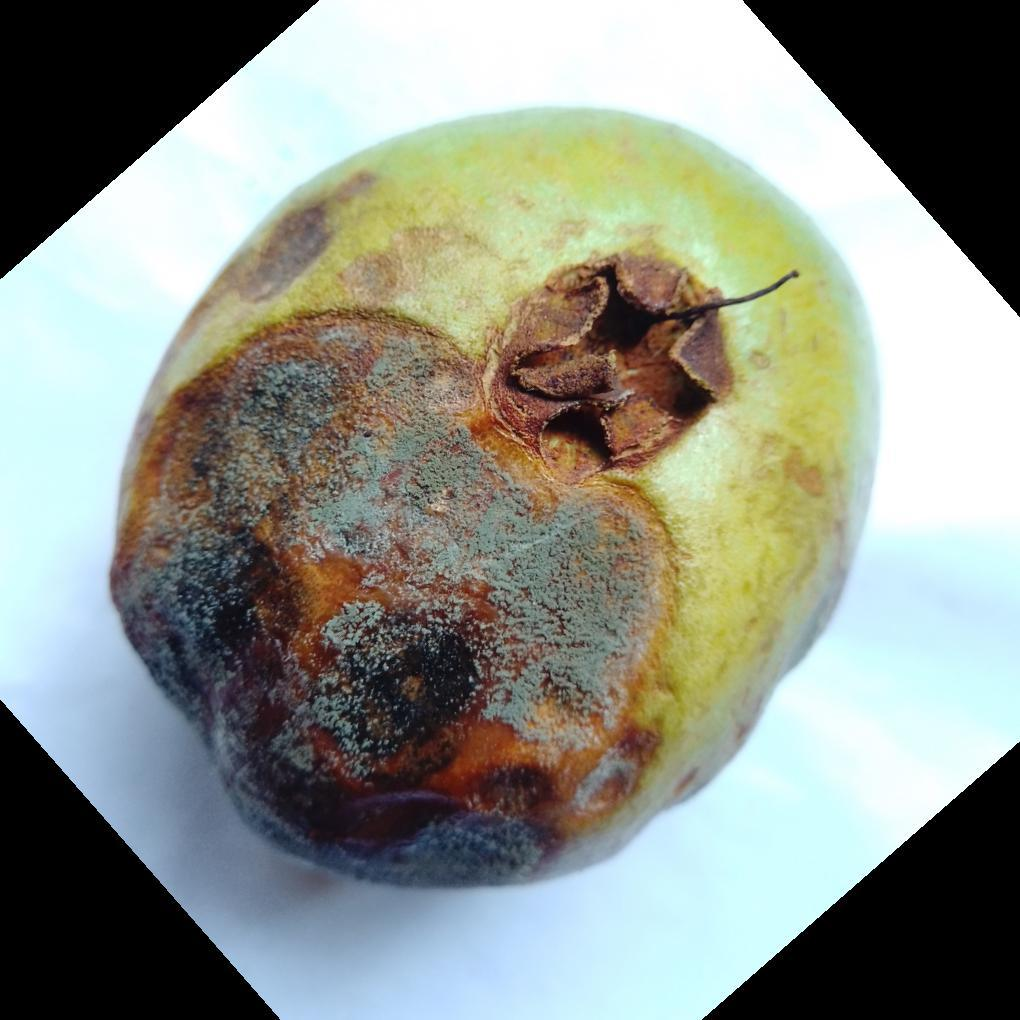FreshOrange: (108, 108, 884, 896)
